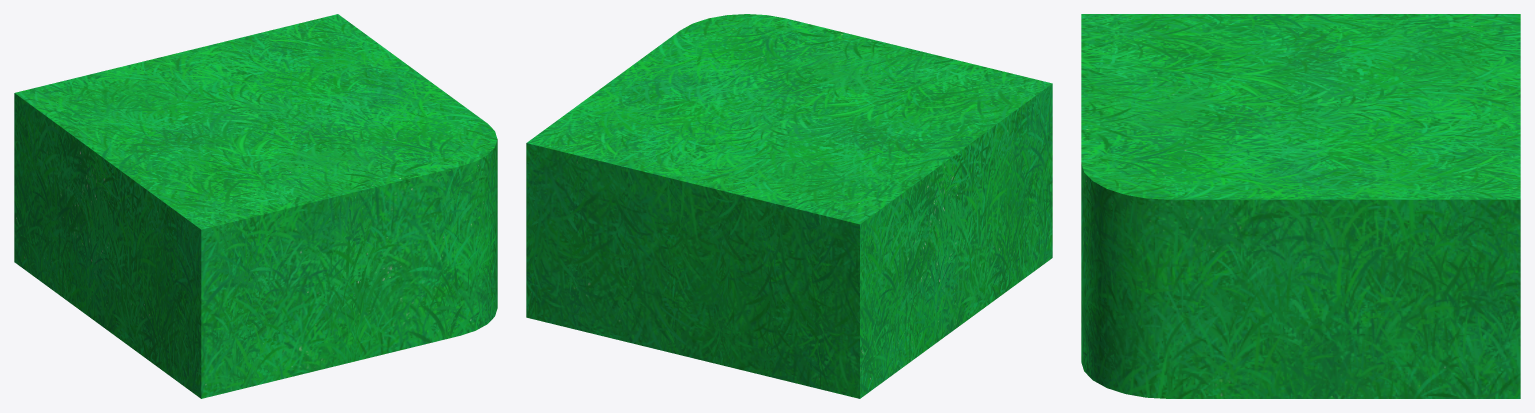
The model's file is grass_kado.fbx.
3 renders of one model, left to right at view 1: azimuth 30°, elevation 25°; view 2: azimuth 150°, elevation 25°; view 3: azimuth 270°, elevation 25°, orthographic. The views are drawn at different scales.
Parts seen in each view (by area): view 1: kusa; view 2: kusa; view 3: kusa.
Part boxes in pixels (bbox=[...]): kusa: bbox=[14, 14, 497, 398]; kusa: bbox=[526, 14, 1052, 398]; kusa: bbox=[1081, 14, 1520, 398].
Size of the model in its own units: 100 by 50 by 100.
Materials: 1 (1 with a texture image).
